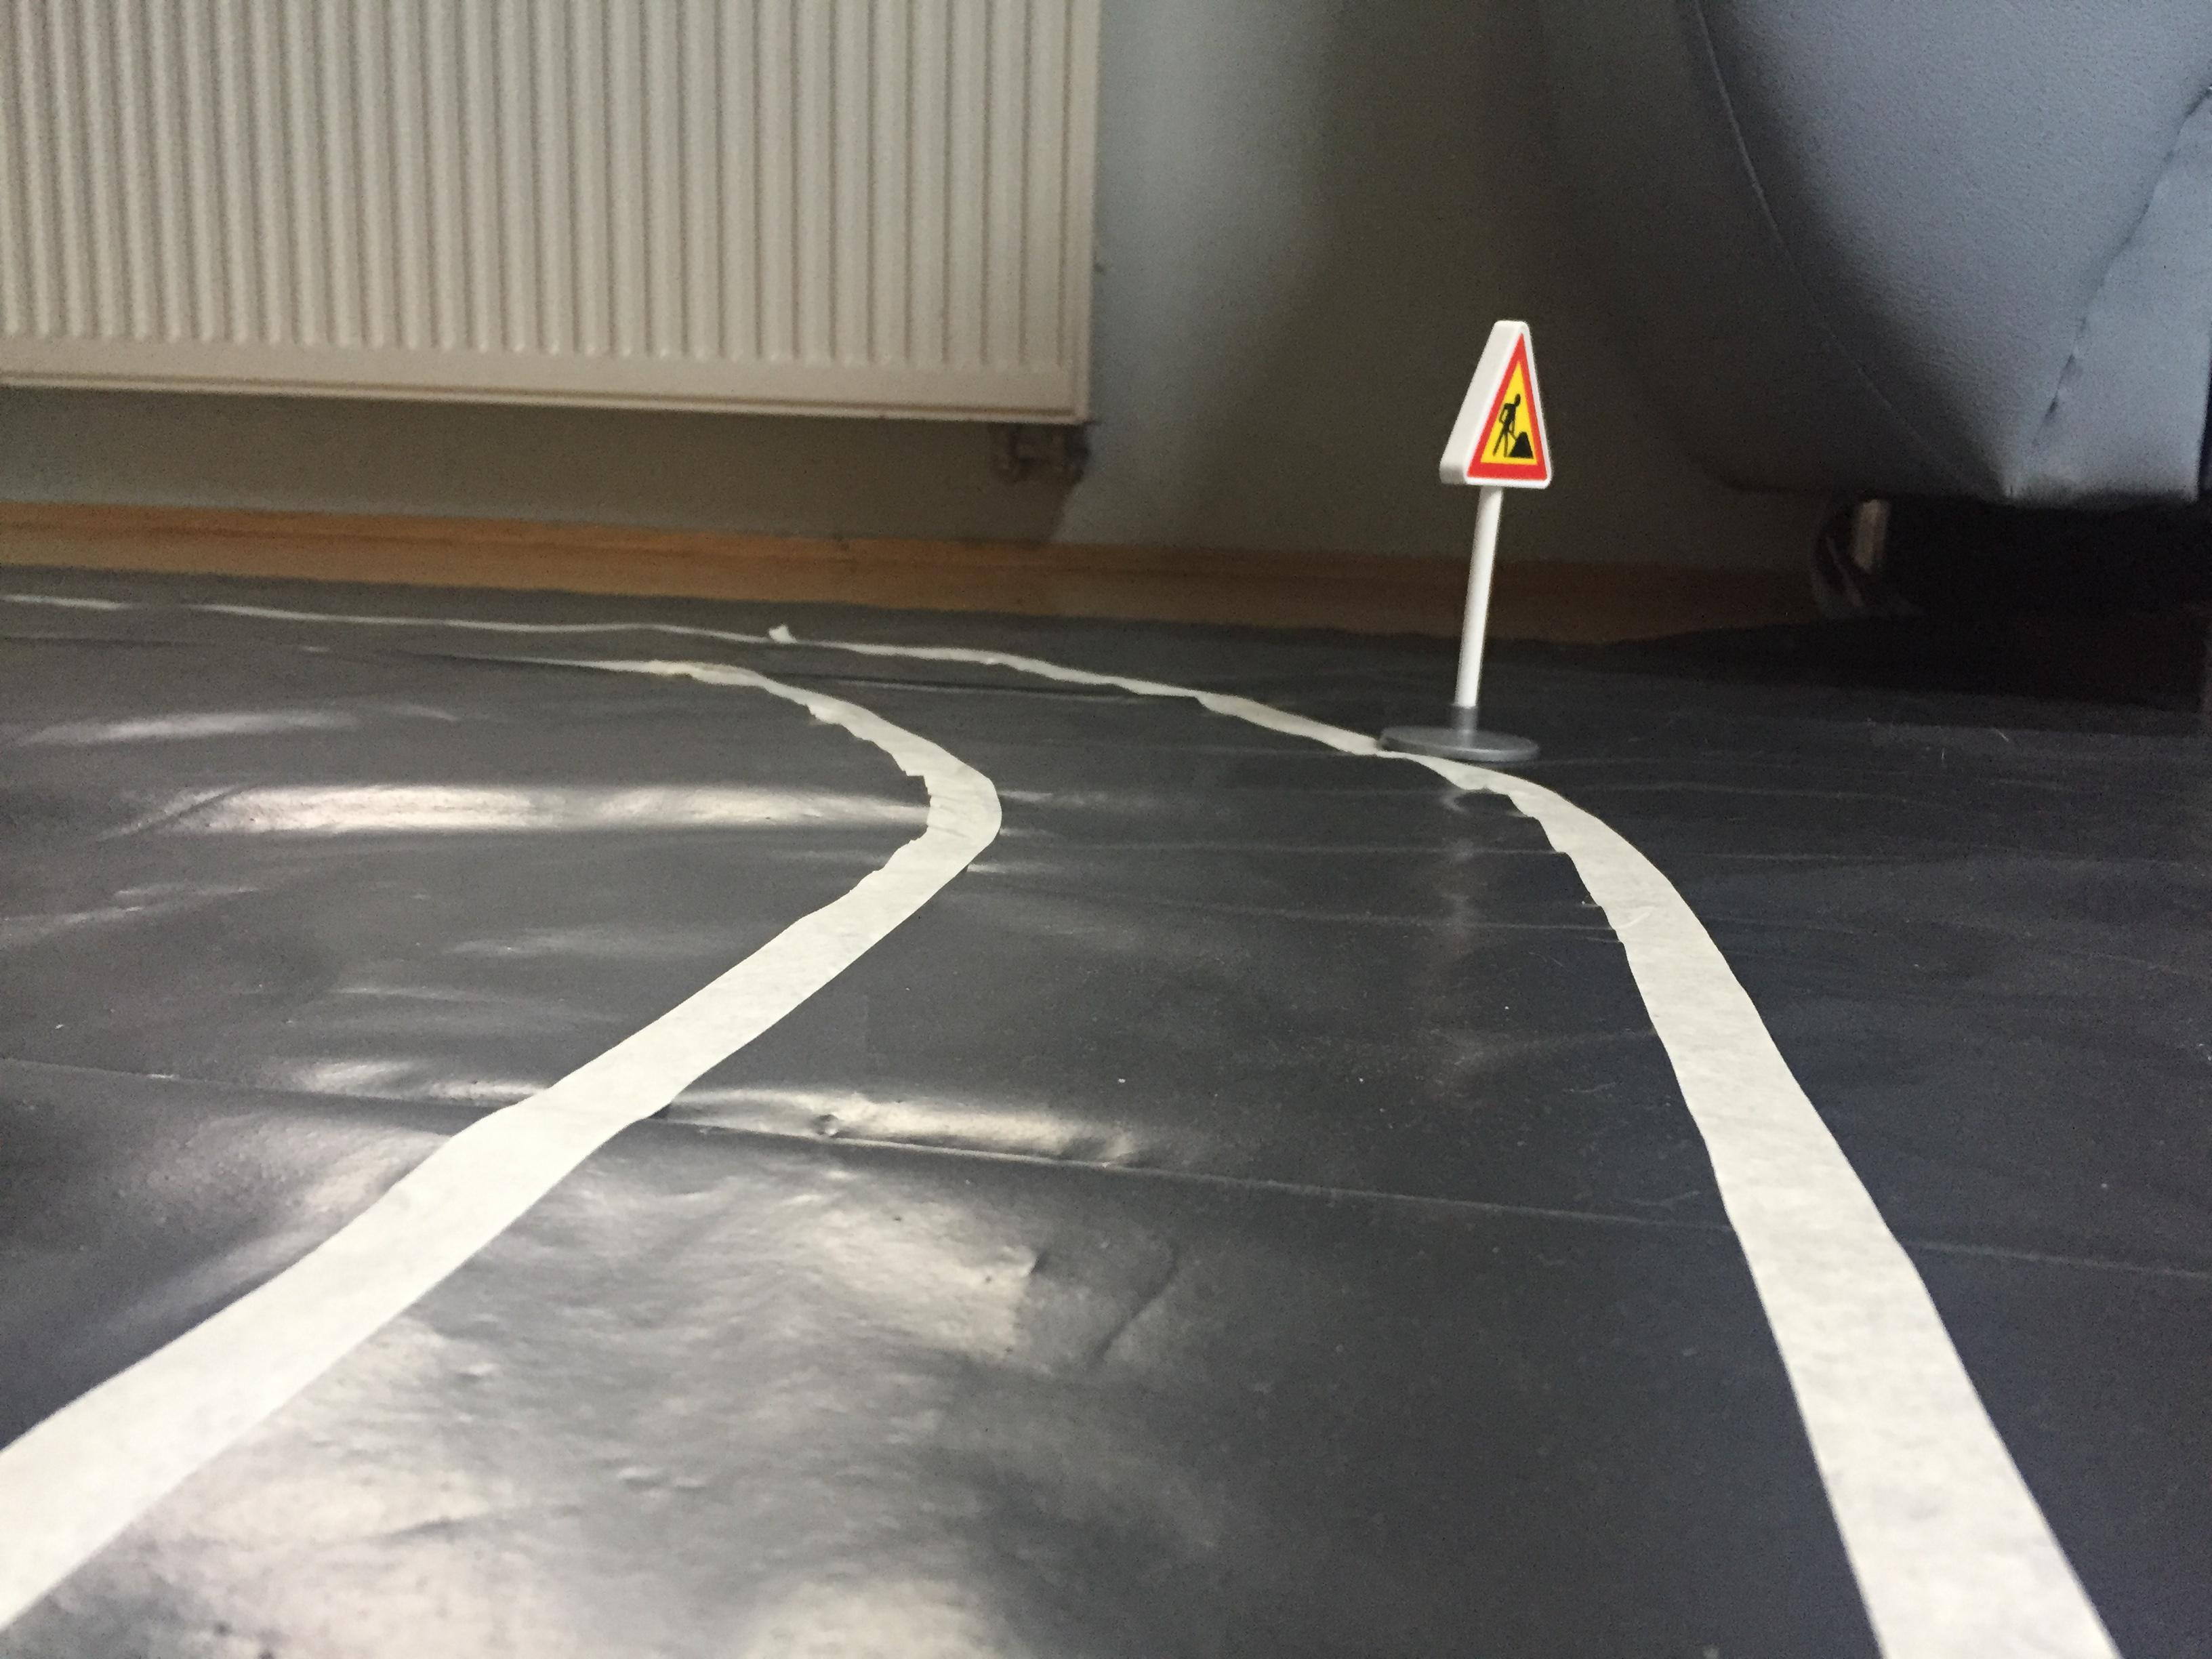work: (1430, 307, 1573, 502)
